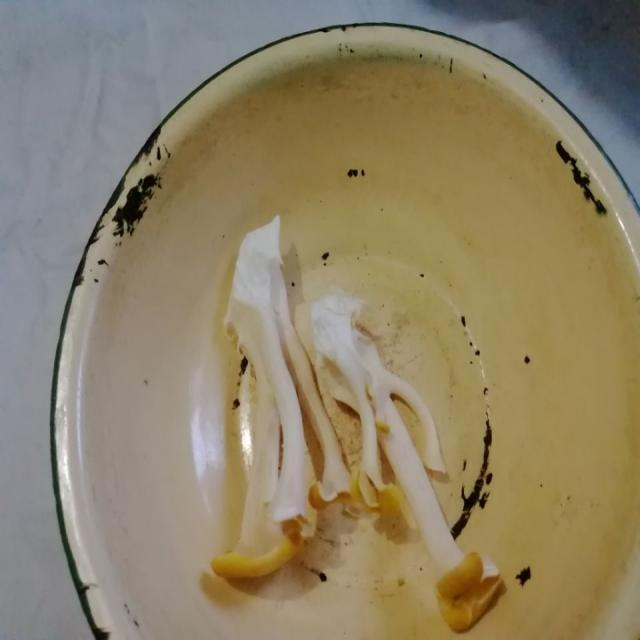Pleurotus citrinopileatus: (211, 214, 503, 639)
